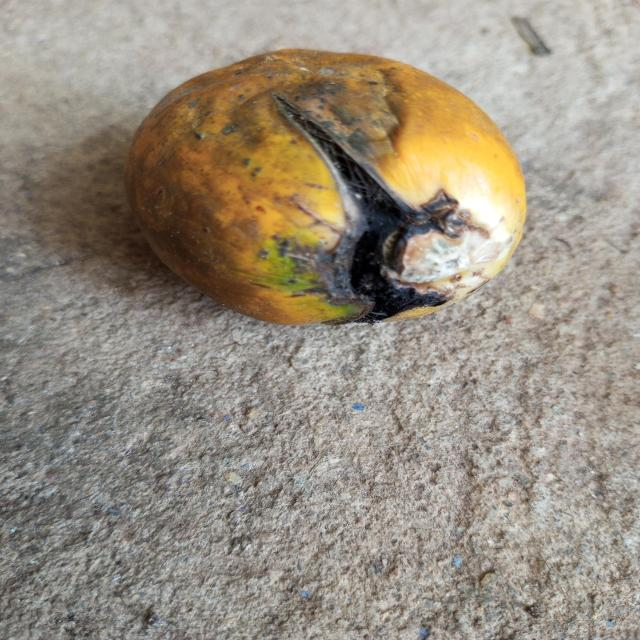damaged: (127, 50, 526, 325)
